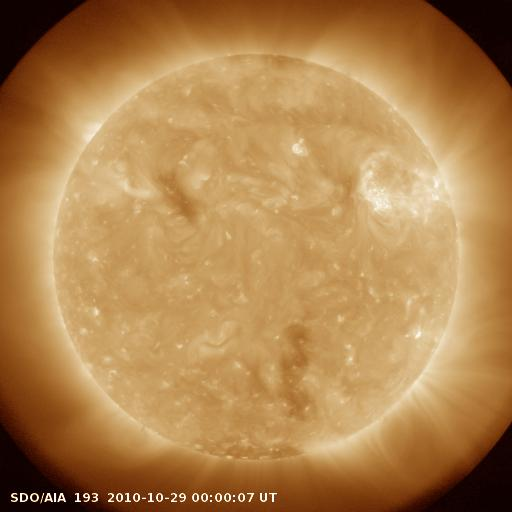coronal_hole: (275, 318, 319, 422), (191, 431, 301, 467), (150, 167, 211, 224)
